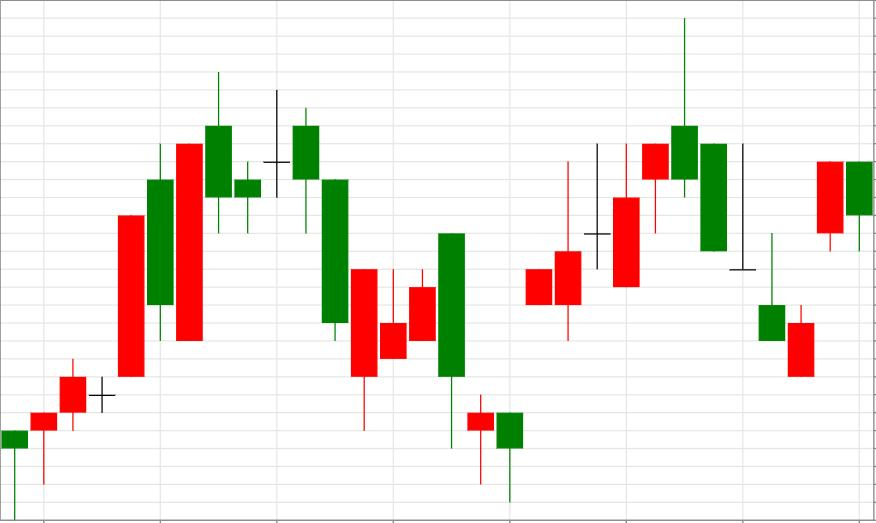hammer_rise: (293, 108, 524, 502)
shooting_star_fall: (525, 19, 698, 342)
